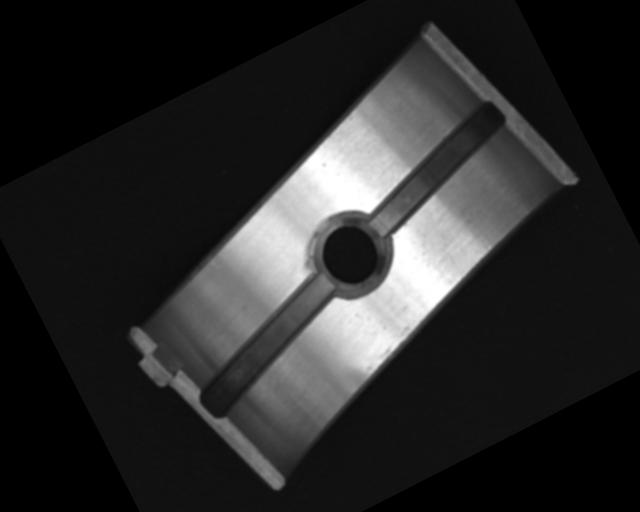gap: (177, 268, 361, 418), (347, 96, 529, 239)
hole: (295, 197, 406, 310)
